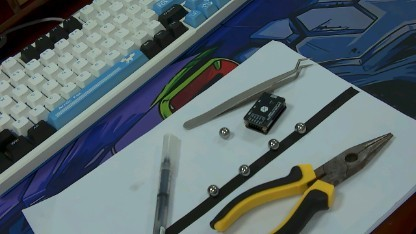ironball: (291, 118, 306, 135), (205, 181, 219, 196), (237, 163, 251, 177), (264, 137, 279, 150), (218, 125, 230, 138)
